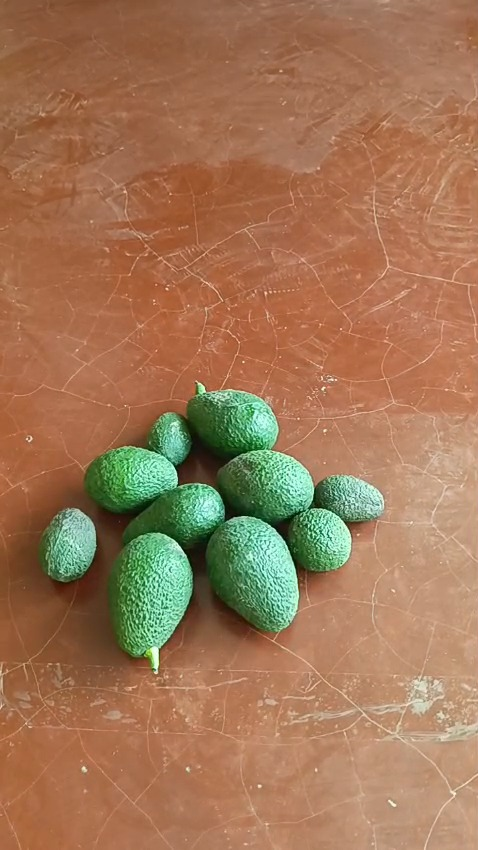Primera: (106, 531, 194, 657), (205, 515, 299, 632), (216, 450, 314, 523), (185, 389, 277, 458)
Segunda: (123, 482, 226, 550), (84, 446, 178, 513)
Tercera: (38, 507, 97, 582), (286, 507, 352, 572), (312, 475, 385, 523), (147, 410, 194, 467)
